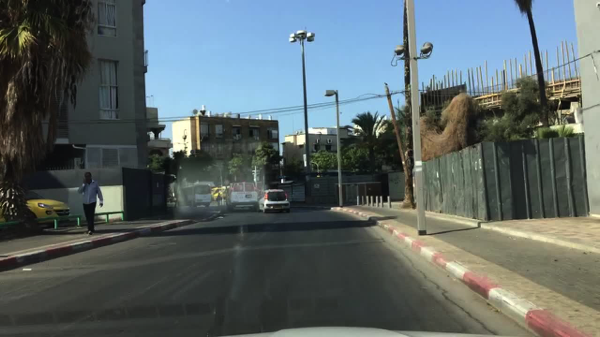car: (23, 189, 69, 224), (227, 182, 260, 212), (183, 180, 212, 206), (260, 189, 291, 213), (210, 186, 228, 201)
person: (77, 171, 104, 235), (214, 192, 226, 205)
traffic sign: (314, 184, 320, 191), (275, 175, 287, 178)
